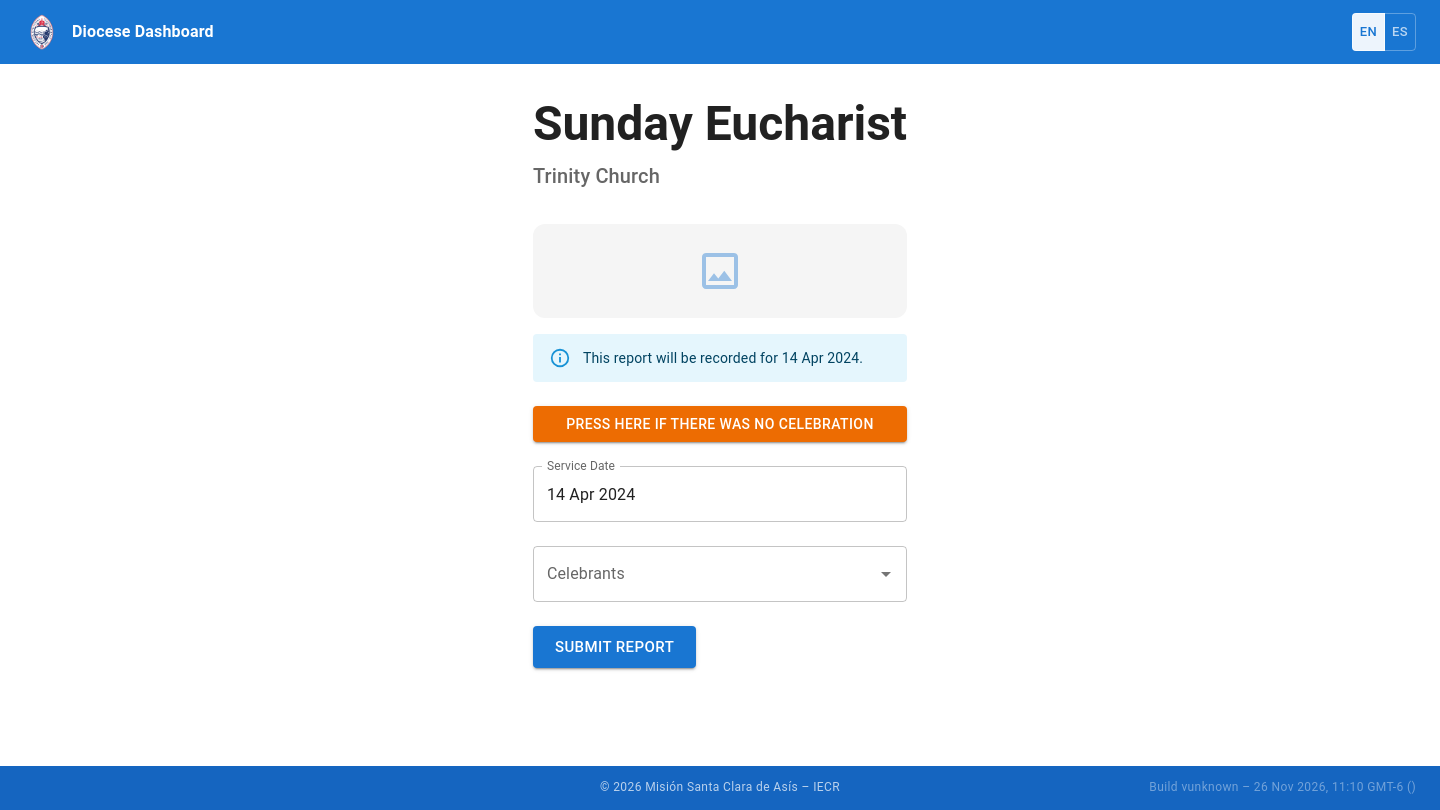
ReporterLinkPage › shows the up-to-date message after a public submission with no pending links
This screenshot has width=1440, height=810.
expect the heading "Sunday Eucharist" is shown: met, box 533,96 -> 907,152
Click the button "Submit Report": (615, 647) 533,626 -> 696,668
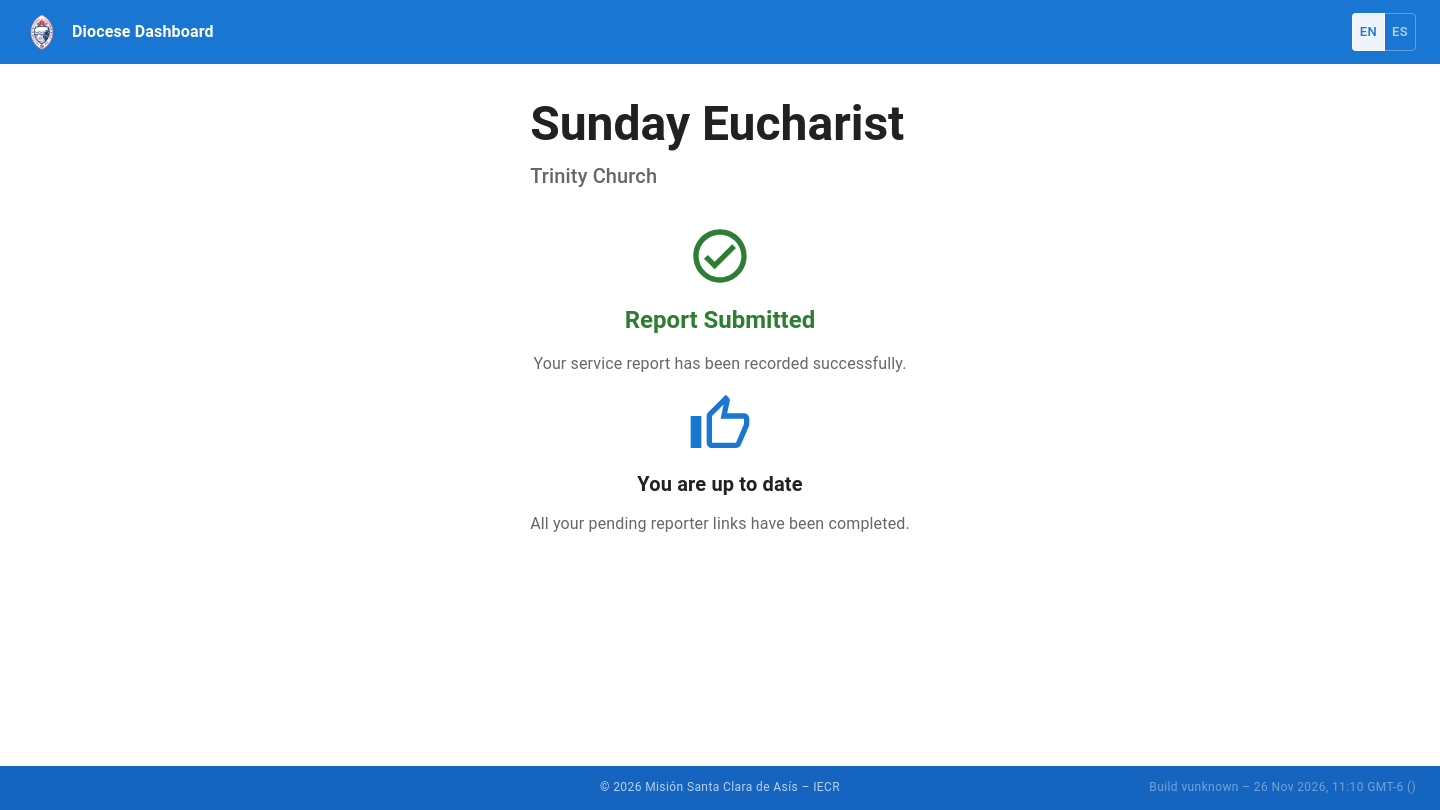
expect the heading "You are up to date" is shown: met, box 637,468 -> 803,500
expect the icon with test id "ThumbUpAltOutlinedIcon" is shown: met, box 688,392 -> 752,456
